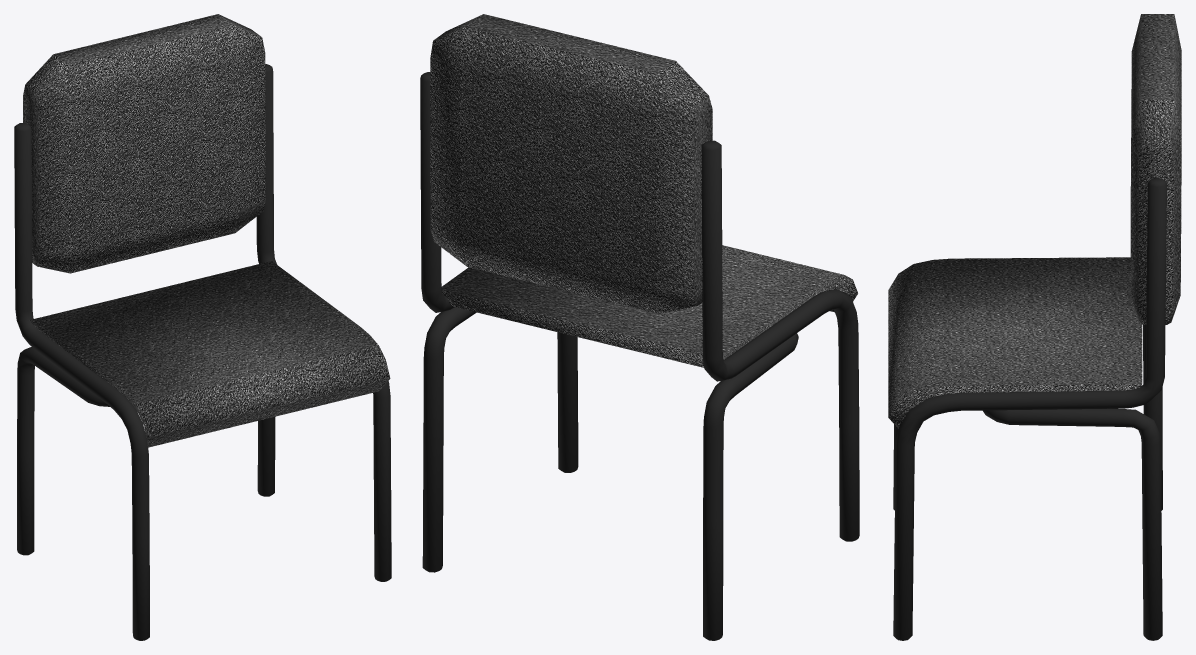
The model's file is chair2.glb.
The picture shows the model from 3 angles, left to right: view 1: azimuth 30°, elevation 25°; view 2: azimuth 150°, elevation 25°; view 3: azimuth 270°, elevation 25°; orthographic projection. The views are drawn at different scales.
Visible parts, largest first — view 1: Keller_stuhl.006; view 2: Keller_stuhl.006; view 3: Keller_stuhl.006.
Part boxes in pixels (<box>): Keller_stuhl.006: <box>14,14,391,640</box>; Keller_stuhl.006: <box>420,14,859,640</box>; Keller_stuhl.006: <box>888,14,1181,640</box>.
Bounding box in the file's own units: 1.01 × 1.81 × 0.9299.
2 materials, 1 textured.
